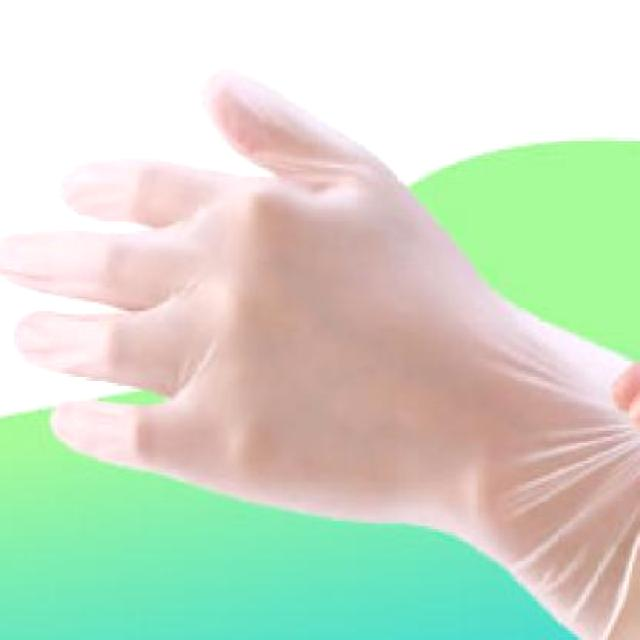glove: (14, 69, 640, 634)
